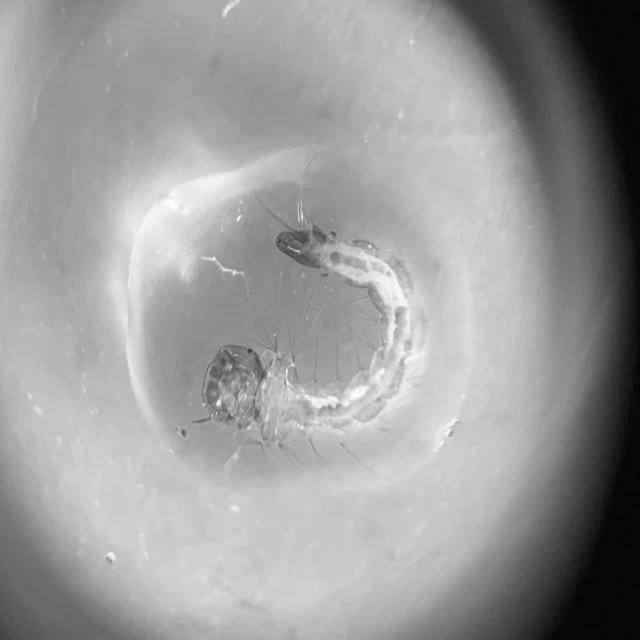larvas: (193, 196, 425, 426)
